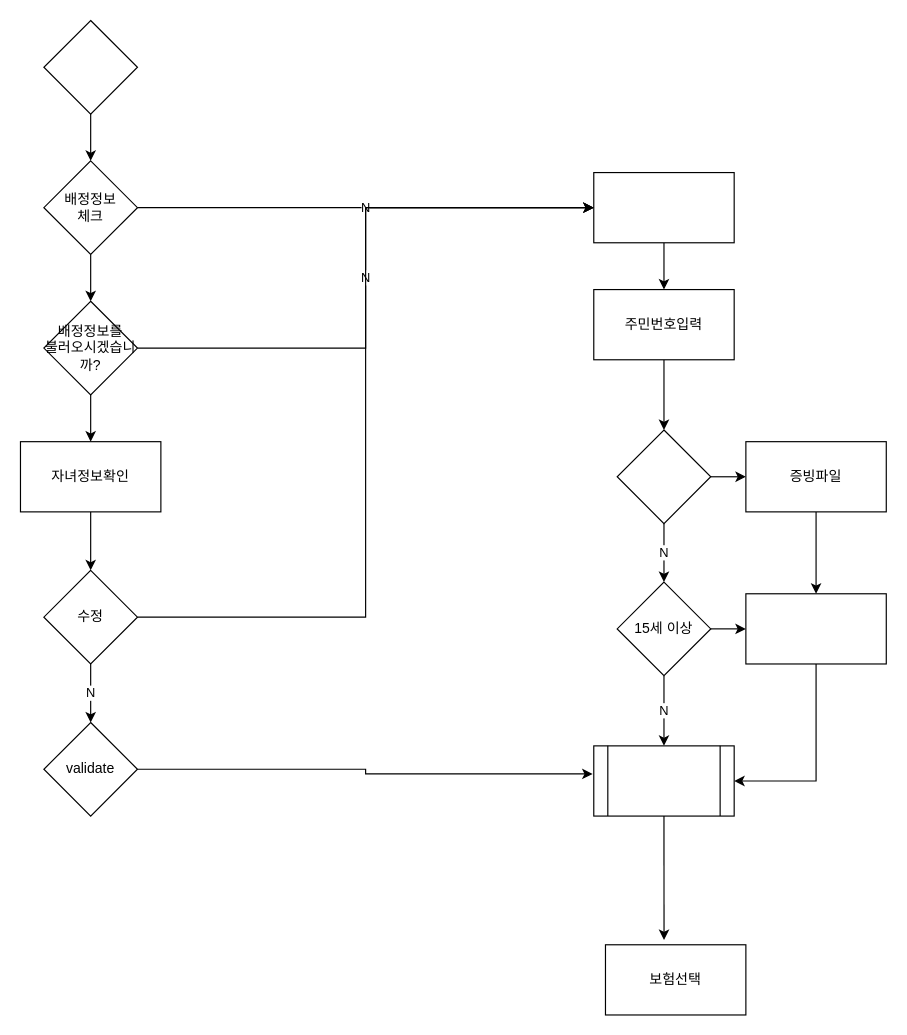
Image size: 907x1035. Some labels were removed from this diagram. The centre of each missing label's shape, as x and y in pixels:
19세이상: point 663,476
validate = true: point 663,780
성명입력: point 663,207
자녀보험 가입: point 90,66
전화번호: point 815,628
